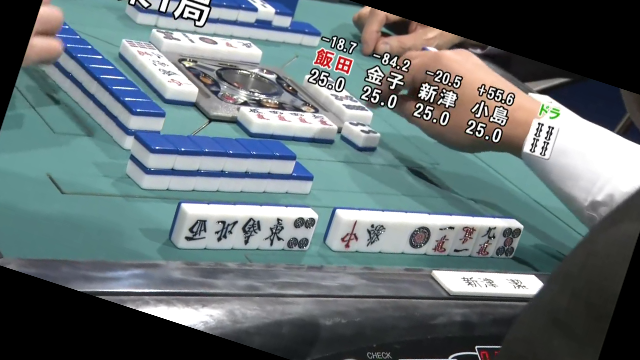Tehai: (166, 196, 525, 267)
